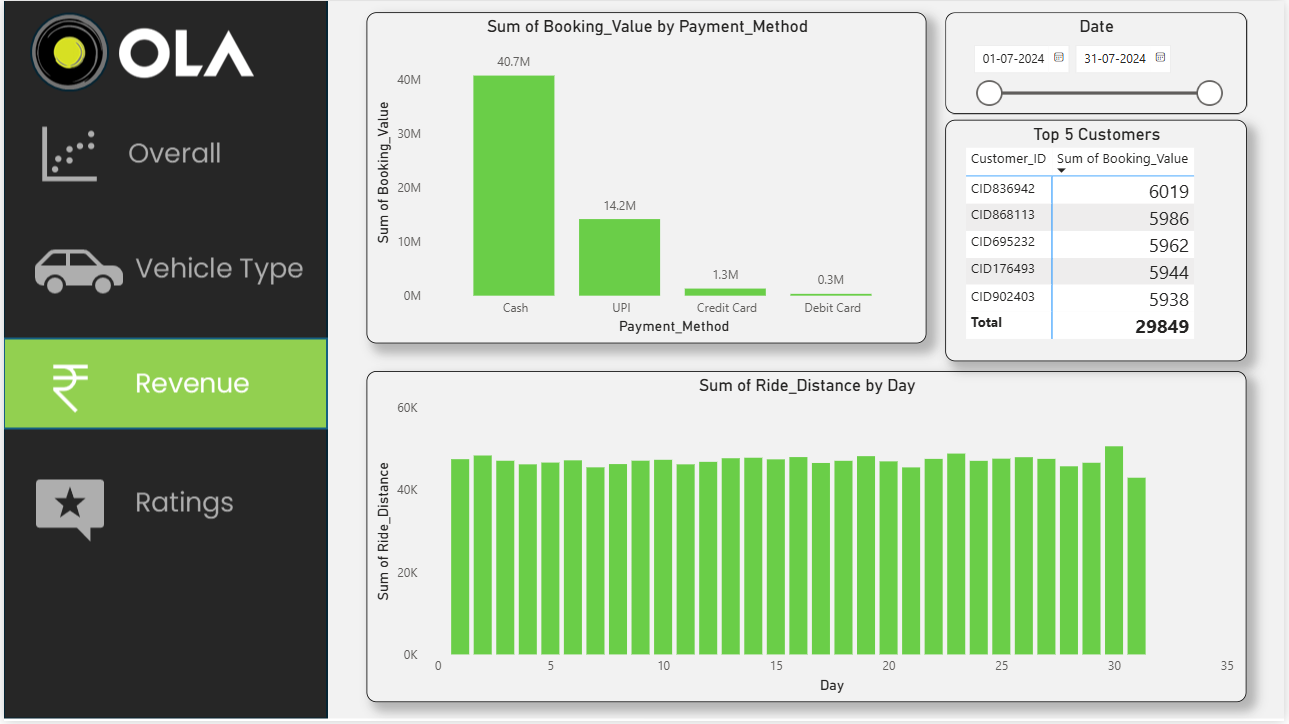

The page's visual inventory and layout, read from the dashboard file:
{"tool":"powerbi","page":{"name":"Revenue","canvas":[1280,720],"ordinal":2},"visuals":[{"type":"columnChart","fields":{"Category":["cleaned_bookings.Payment_Method"],"Y":["Sum(cleaned_bookings.Booking_Value)"]},"box":[362.9,11.4,560,331.4],"z":0},{"type":"pivotTable","title":"Top 5 Customers","fields":{"Rows":["cleaned_bookings.Customer_ID"],"Values":["Sum(cleaned_bookings.Booking_Value)"]},"box":[941.4,118.6,301.4,241.4],"z":1000},{"type":"slicer","title":"Date","fields":{"Values":["cleaned_bookings.Date"]},"box":[941.4,11.4,301.4,101.4],"z":2000},{"type":"columnChart","fields":{"Y":["Sum(cleaned_bookings.Ride_Distance)"],"Category":["cleaned_bookings.Date.Variation.Date Hierarchy.Day"]},"box":[362.9,370,880,331.4],"z":3000}]}

Visuals, with their boxes on the page's 1280x720 design canvas (x1, y1, x2, y2). These are canvas units, not pixel positions in the 1289x724 screenshot, which may show the page scaled, cropped or inside an application window:
columnChart - cleaned_bookings.Payment_Method x Sum(cleaned_bookings.Booking_Value): [left=363, top=11, right=923, bottom=343]
"Top 5 Customers" pivotTable: [left=941, top=119, right=1243, bottom=360]
"Date" slicer: [left=941, top=11, right=1243, bottom=113]
columnChart - Sum(cleaned_bookings.Ride_Distance) x cleaned_bookings.Date.Variation.Date Hierarchy.Day: [left=363, top=370, right=1243, bottom=701]
